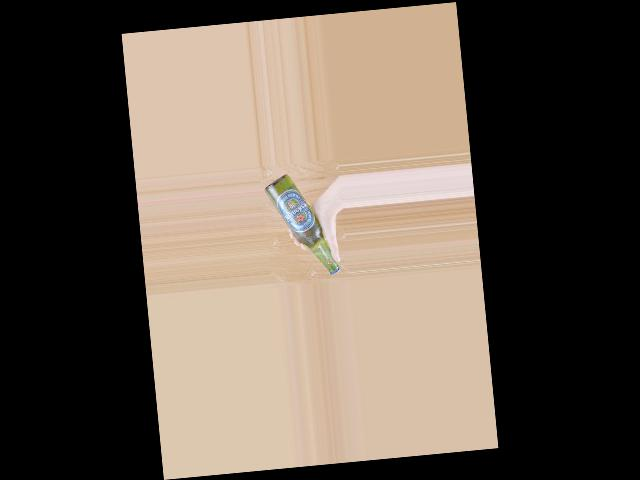beer: (264, 169, 340, 281)
